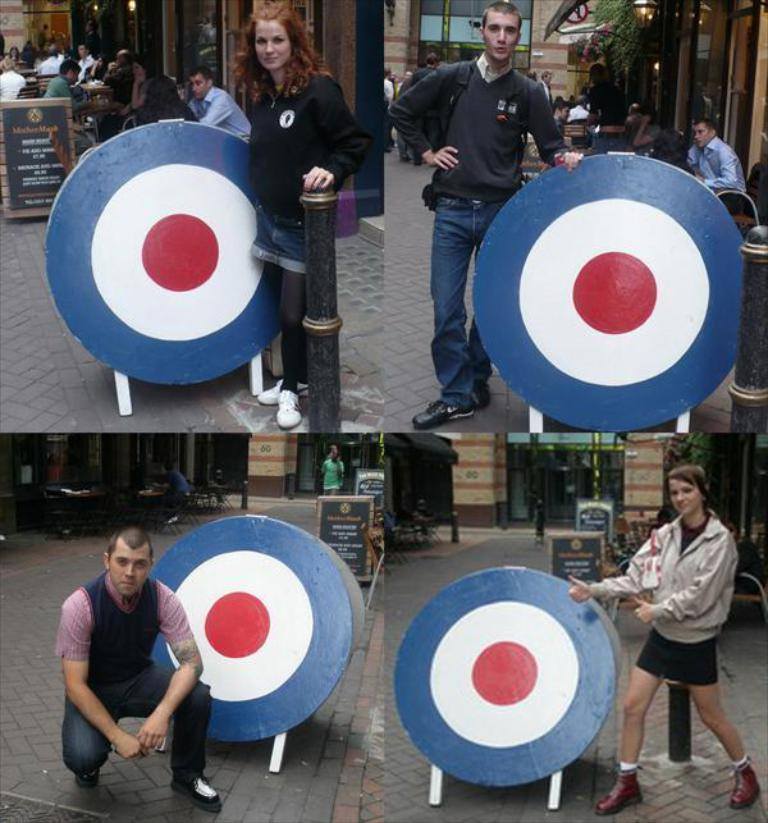Person: (567, 466, 763, 818), (232, 0, 369, 426), (0, 31, 251, 146), (688, 120, 745, 214)
